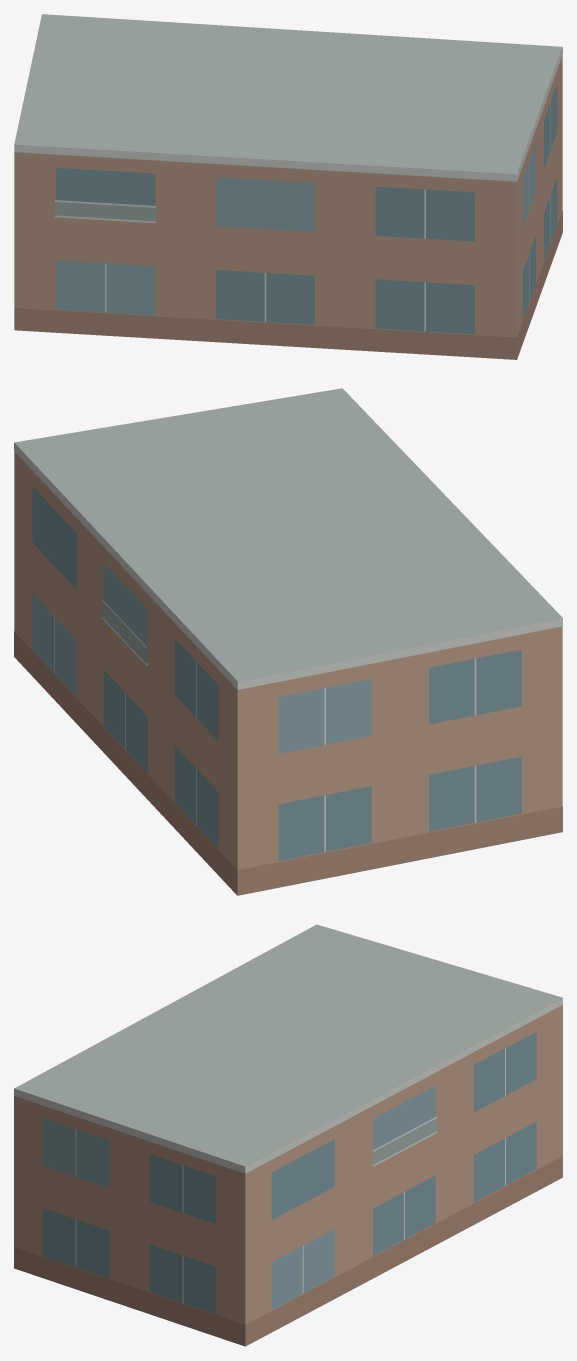
The model's file is survey-upis-32892784.glb.
3 views of the same model, one above another, from view 1: azimuth 30°, elevation 25°; view 2: azimuth 150°, elevation 25°; view 3: azimuth 270°, elevation 25° (orthographic). The views are drawn at different scales.
Visible parts, largest first — view 1: survey-upis-32892784.tmp; view 2: survey-upis-32892784.tmp; view 3: survey-upis-32892784.tmp.
Boxes of the visible parts, <box> form: survey-upis-32892784.tmp: <box>14,14,562,359</box>; survey-upis-32892784.tmp: <box>14,388,562,895</box>; survey-upis-32892784.tmp: <box>14,924,562,1346</box>.
Bounding box in the file's own units: 17.62 × 6.1 × 16.87.
